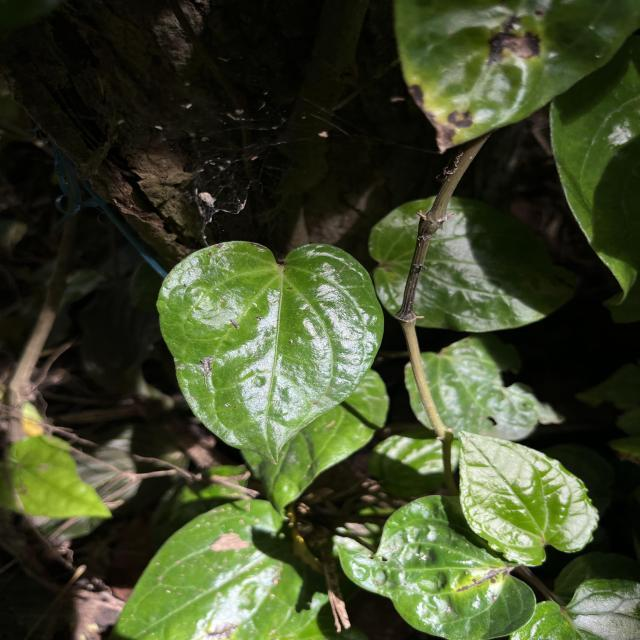Piper betle: (154, 238, 386, 468)
